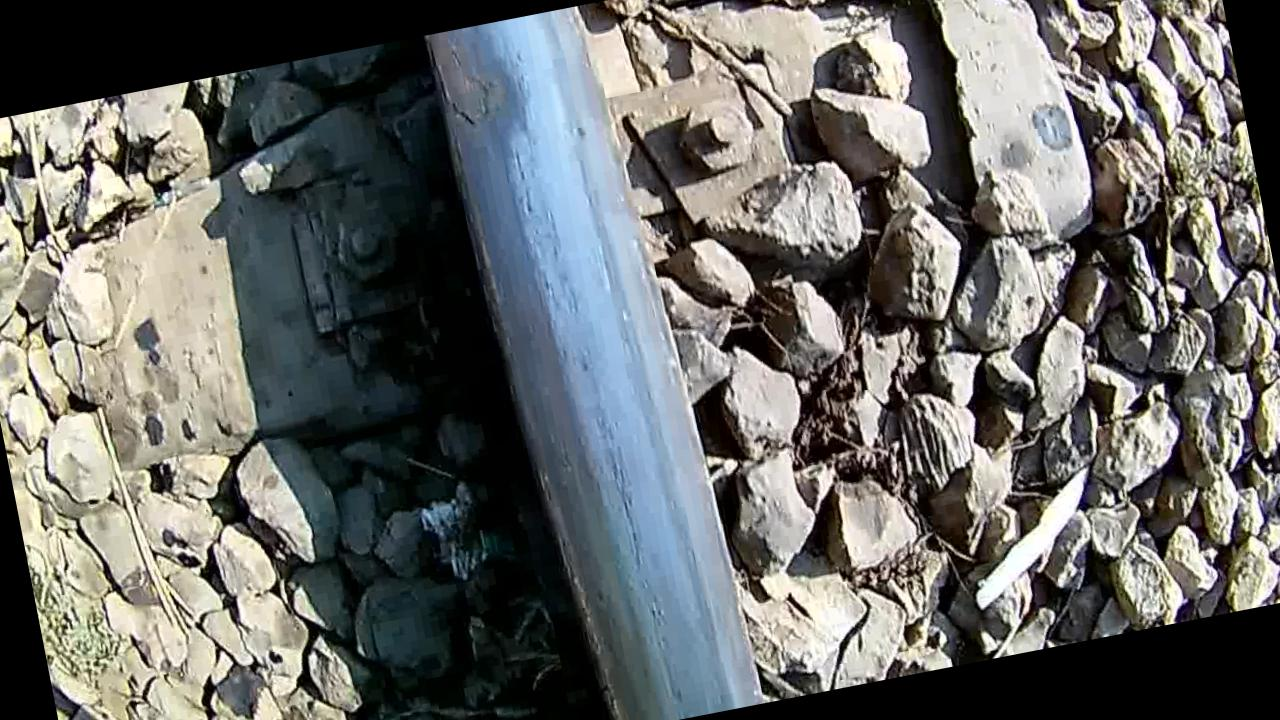bolt_missing: (410, 23, 544, 138)
